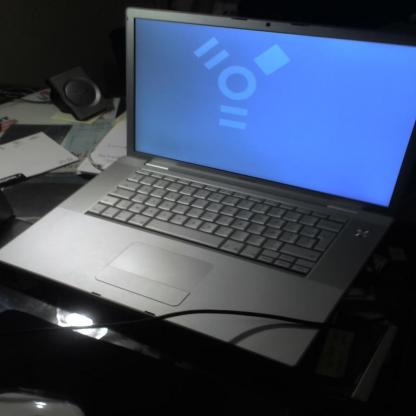board: (16, 7, 405, 362)
